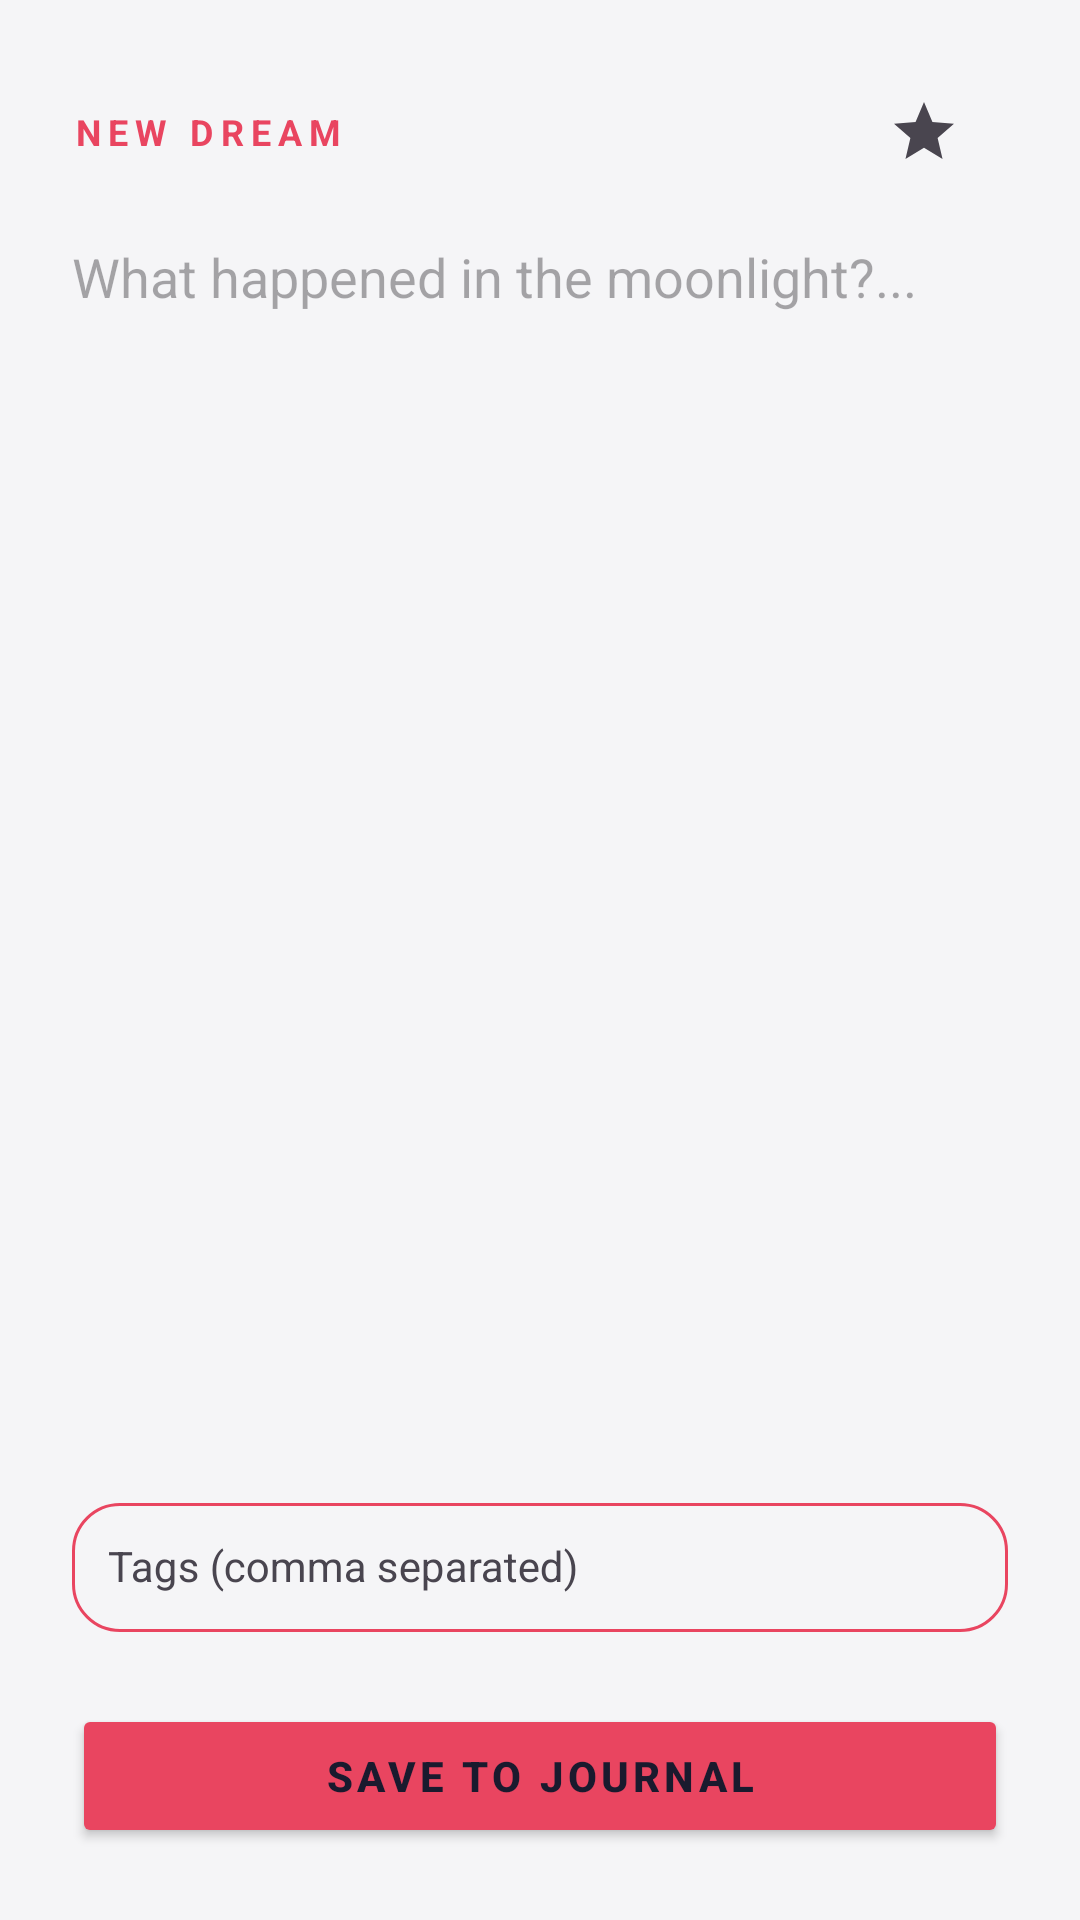

Where to tap for icons on this 1080 x 1920 app screen, as (x,y):
star: (924,130)
